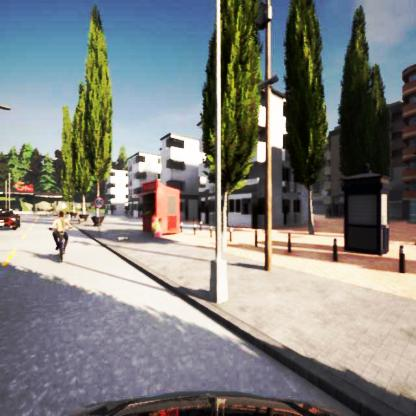bike: (49, 210, 72, 261)
vehicle: (1, 210, 19, 230)
